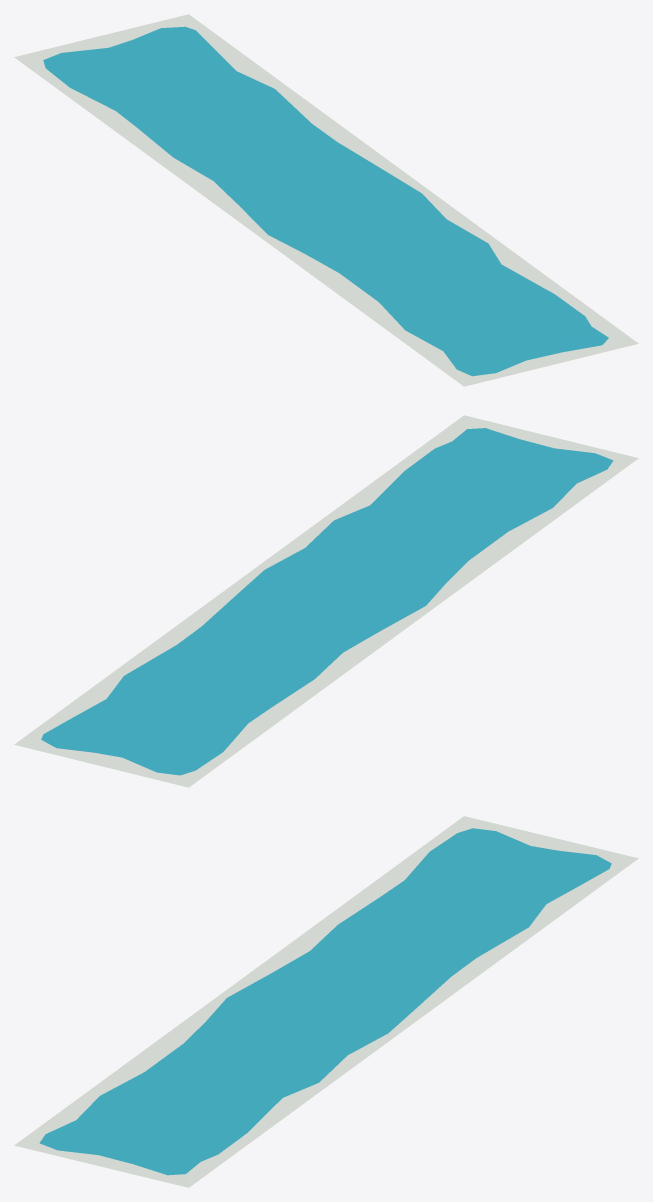
The model's file is Water.fbx.
The picture shows the model from 3 angles, top to bottom: view 1: azimuth 30°, elevation 25°; view 2: azimuth 150°, elevation 25°; view 3: azimuth 330°, elevation 25°; orthographic projection.
Visible parts, largest first — view 1: Cylinder.076; view 2: Cylinder.076; view 3: Cylinder.076.
Part boxes in pixels (x1,y1,x2,y2): Cylinder.076: (14, 14, 638, 386); Cylinder.076: (14, 415, 638, 787); Cylinder.076: (14, 816, 638, 1187).
Size of the model in its own units: 0.2098 by 0.000347 by 0.9355.
